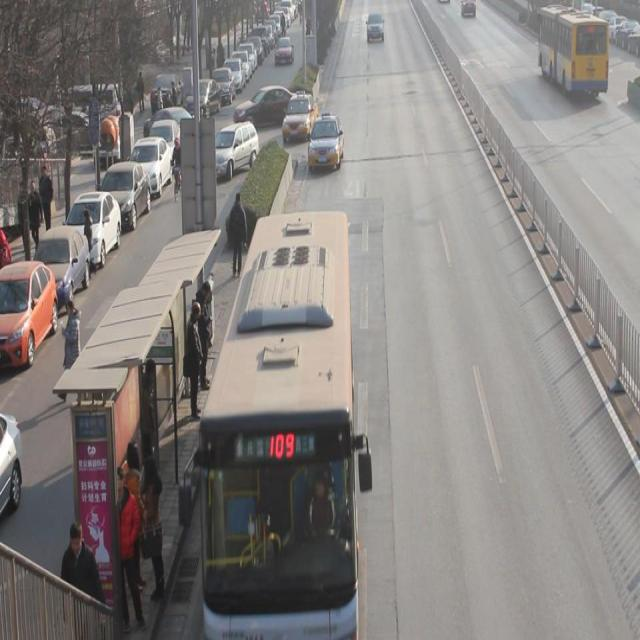car: (308, 114, 345, 170), (282, 92, 318, 145), (367, 13, 384, 44)
van: (194, 212, 355, 631), (537, 9, 606, 99)
